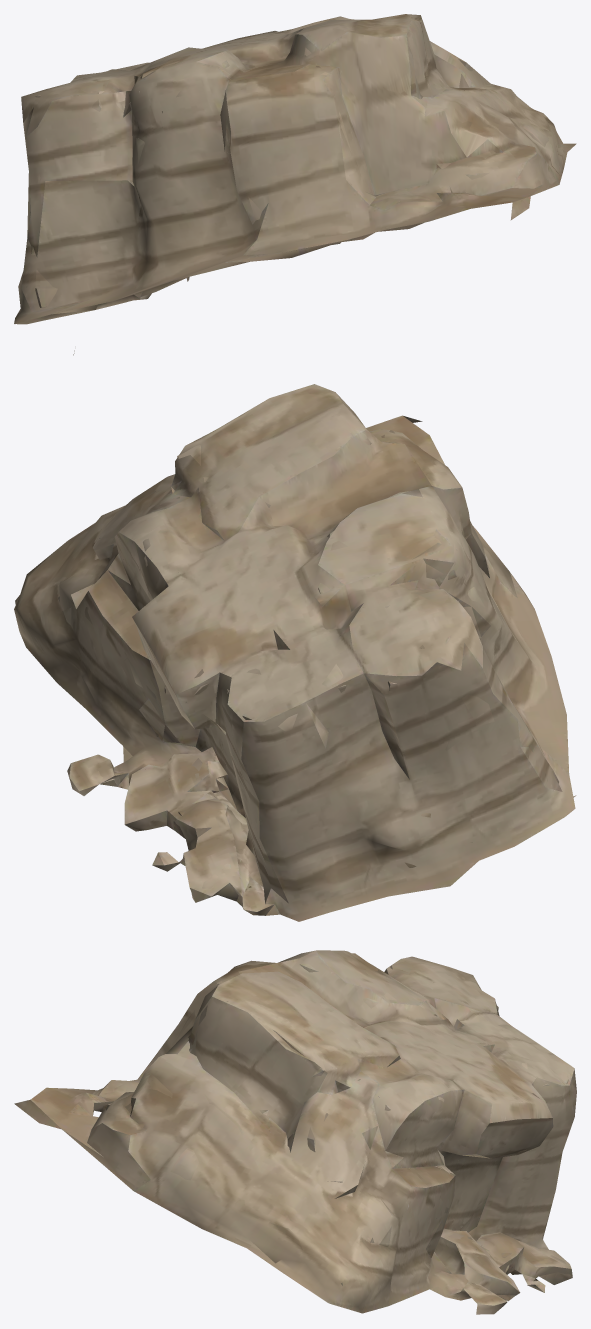
Rendered from rock_outcrop_large.glb.
3 views of the same model, one above another, from view 1: azimuth 30°, elevation 25°; view 2: azimuth 150°, elevation 25°; view 3: azimuth 270°, elevation 25° (orthographic). The views are drawn at different scales.
Visible parts, largest first — view 1: LowPoly; view 2: LowPoly; view 3: LowPoly.
Boxes of the visible parts, bbox=[...] form: LowPoly: bbox=[14, 14, 576, 355]; LowPoly: bbox=[14, 384, 576, 921]; LowPoly: bbox=[14, 950, 576, 1314].
Bounding box in the file's own units: 0.8765 × 0.5311 × 0.8261.
Materials: 1 (1 with a texture image).
